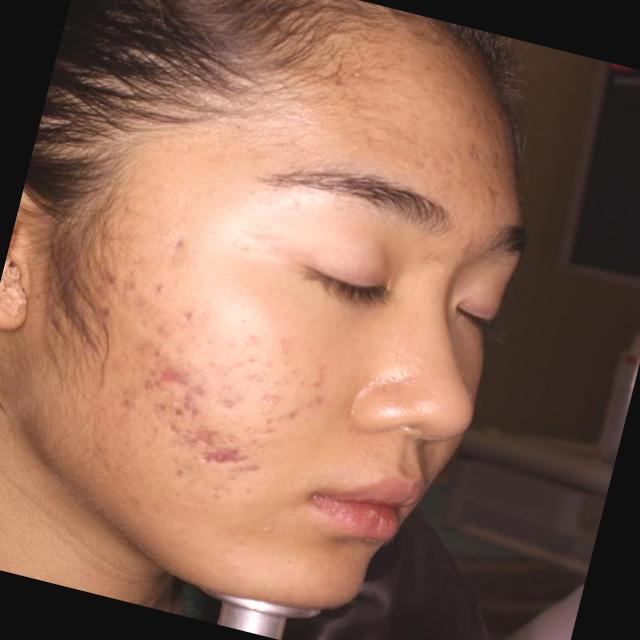acne: (207, 440, 254, 484), (302, 374, 346, 420), (161, 405, 197, 440), (214, 383, 250, 418), (134, 369, 170, 402), (146, 358, 192, 382), (112, 388, 144, 420), (128, 325, 156, 356), (280, 402, 310, 427), (94, 257, 117, 288), (186, 374, 208, 400), (192, 418, 215, 442), (176, 389, 198, 413)
